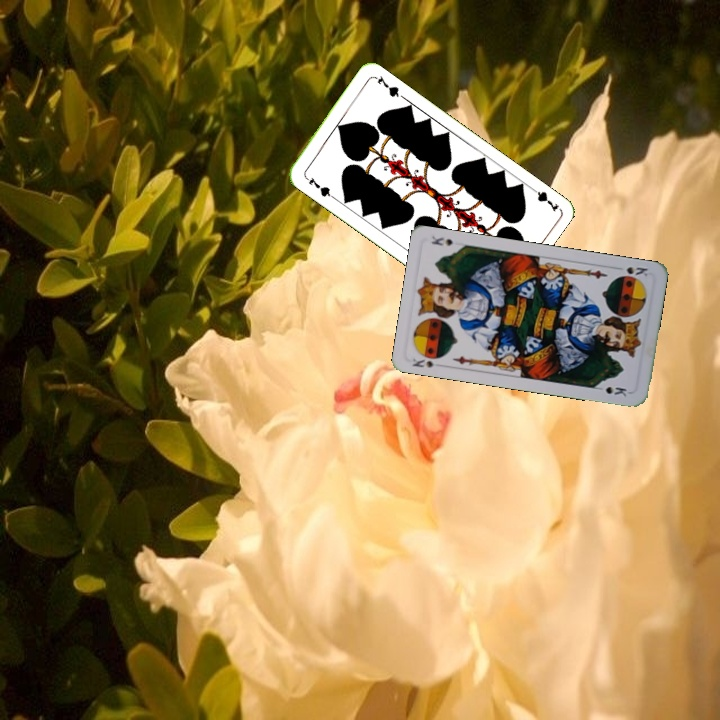G7: (525, 182, 561, 214), (301, 171, 336, 200)
SK: (408, 350, 445, 370), (622, 262, 650, 280)
